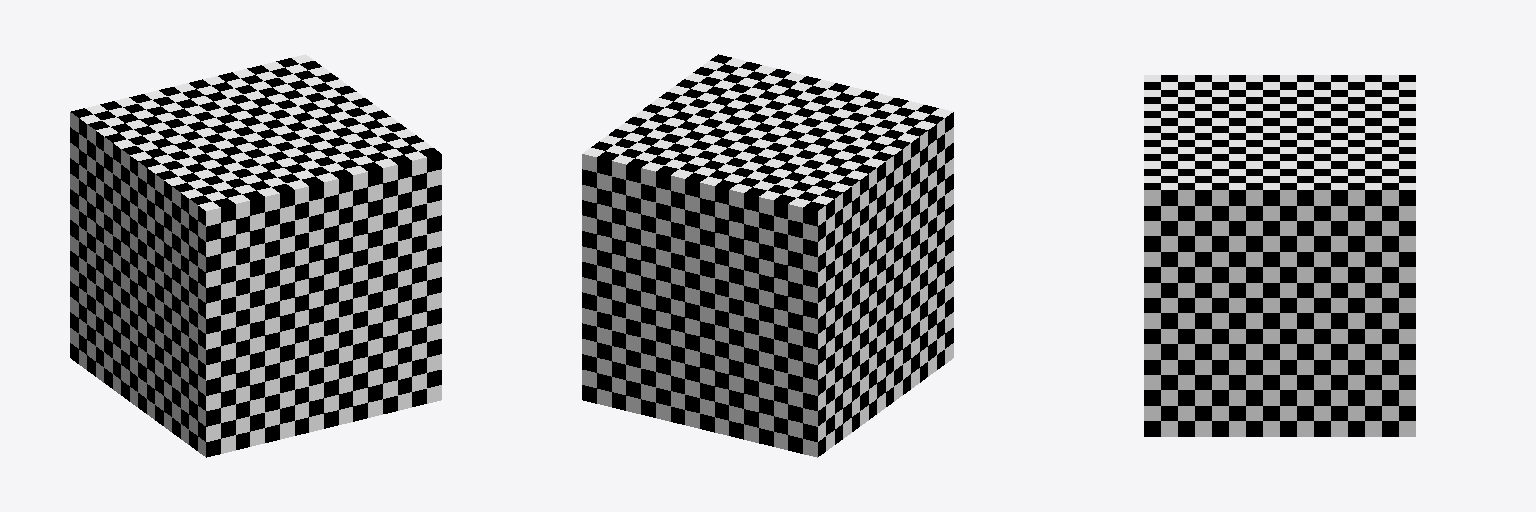
3 views of the same model, side by side, from view 1: azimuth 30°, elevation 25°; view 2: azimuth 150°, elevation 25°; view 3: azimuth 270°, elevation 25° (orthographic).
Parts seen in each view (by area): view 1: Cube; view 2: Cube; view 3: Cube.
Boxes of the visible parts, x1=… form: Cube: x1=70, y1=54, x2=441, y2=457; Cube: x1=582, y1=54, x2=953, y2=457; Cube: x1=1144, y1=75, x2=1415, y2=436.
Bounding box in the file's own units: 200 × 200 × 200.
1 materials, 1 textured.